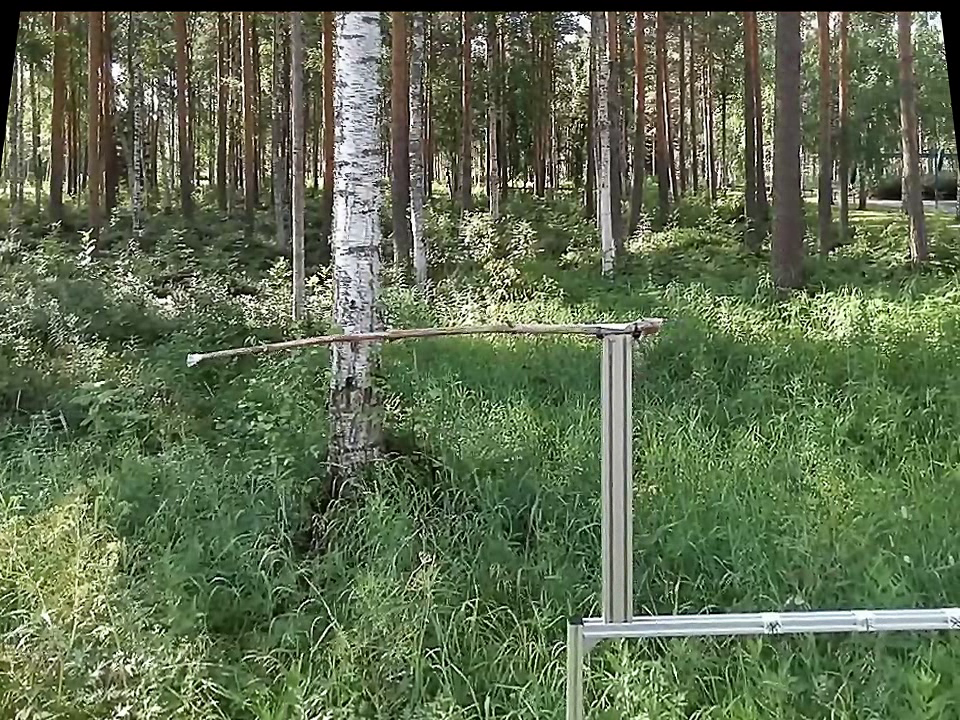aluminum_frame: (583, 598, 956, 646), (591, 338, 639, 616), (558, 614, 592, 719)
branch: (204, 308, 592, 363)
